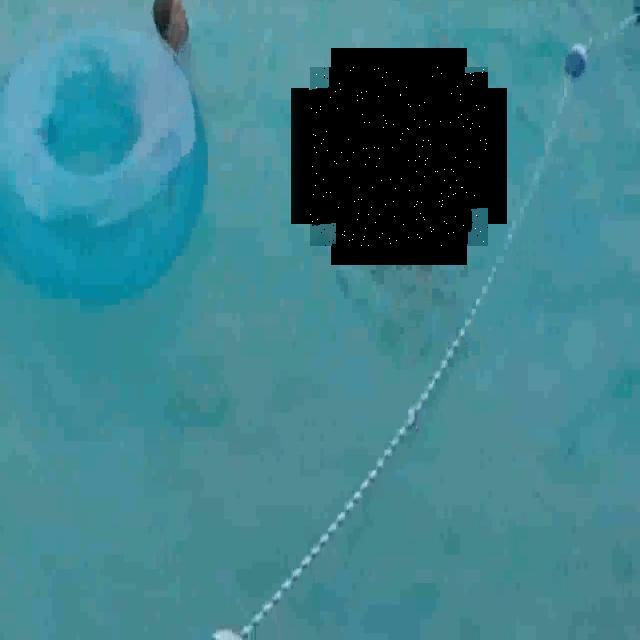Out of Water: (310, 67, 488, 246)
